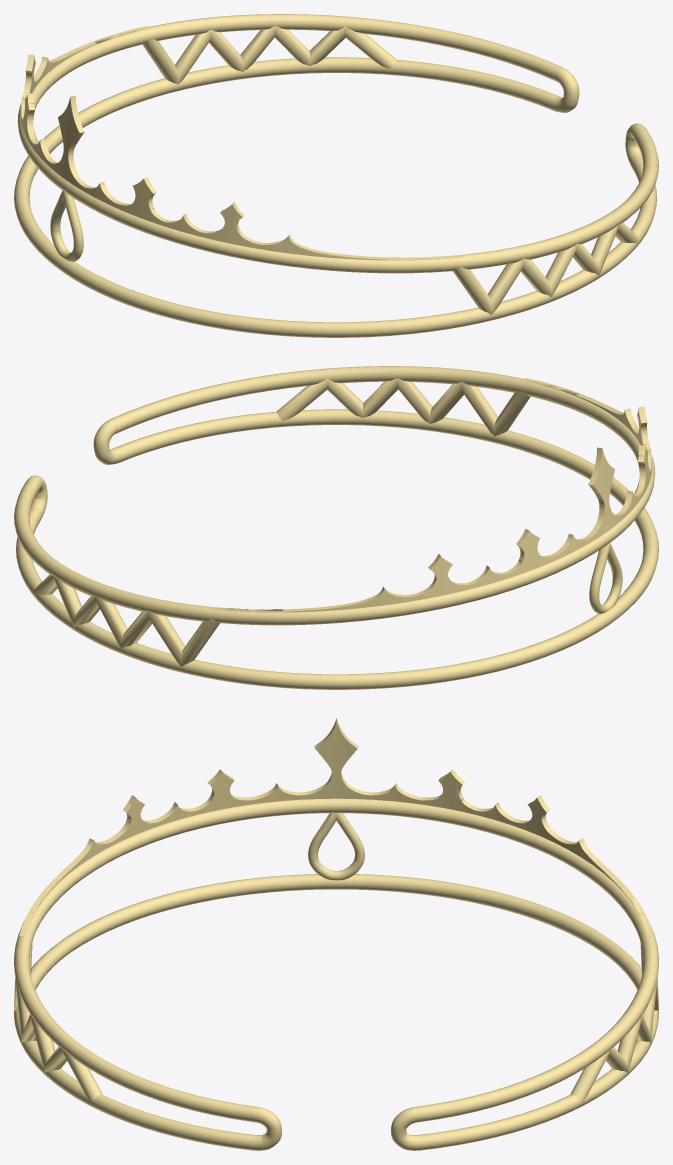
Rendered from 7-gold.gltf.
3 views of the same model, one above another, from view 1: azimuth 30°, elevation 25°; view 2: azimuth 150°, elevation 25°; view 3: azimuth 270°, elevation 25° (orthographic).
Parts seen in each view (by area): view 1: Arc002, crown, Line002, Line001, Line003; view 2: Arc002, crown, Line001, Line002, Line003; view 3: Arc002, crown, Line002, Line001, Line003.
Boxes of the visible parts, box(x1,y1,x2,y2) form: Arc002: box(14, 14, 658, 337); crown: box(20, 26, 462, 260); Line002: box(142, 26, 396, 84); Line001: box(453, 213, 638, 314); Line003: box(50, 190, 83, 261); Arc002: box(14, 366, 658, 689); crown: box(210, 378, 652, 612); Line001: box(276, 378, 530, 435); Line002: box(34, 565, 219, 666); Line003: box(589, 542, 622, 613); Arc002: box(14, 798, 658, 1150); crown: box(19, 718, 653, 936); Line002: box(570, 943, 658, 1102); Line001: box(14, 943, 102, 1102); Line003: box(308, 813, 364, 880).
Size of the model in its own units: 20.32 by 6.09 by 20.5.
